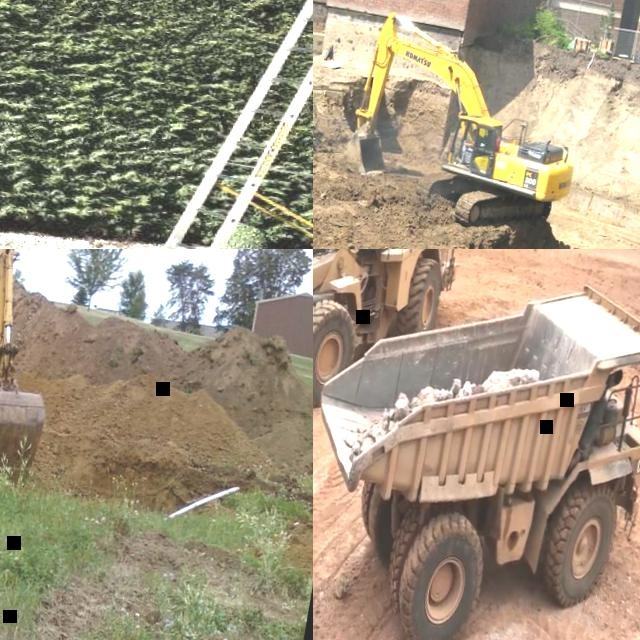Person: (468, 128, 477, 148)
machinery: (313, 249, 640, 640), (338, 5, 597, 241), (313, 249, 476, 433), (0, 249, 85, 490)
